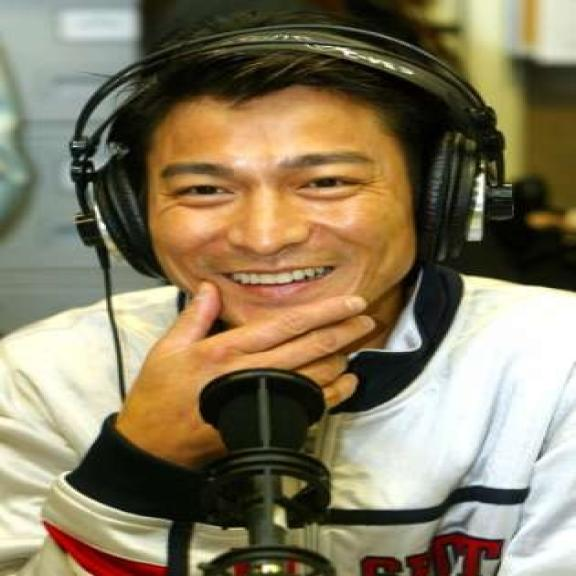face: (140, 104, 429, 348)
